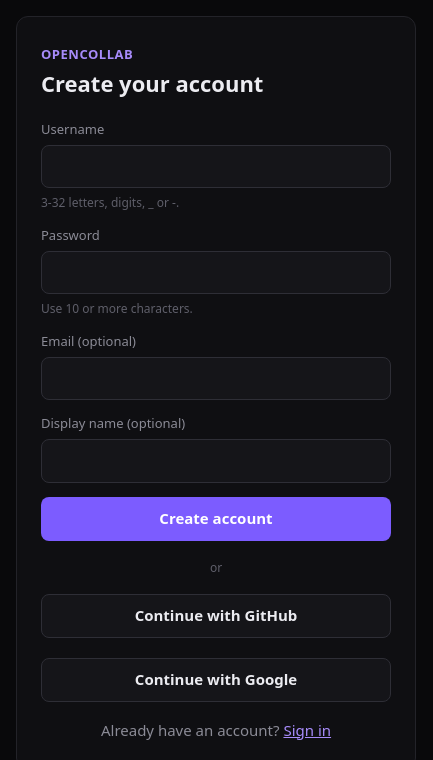
Test: register › registers and lands on the account page, omitting empty optional fields
Type "ada" into the field labelled "Username" at (216, 166), box [41,145,391,188]
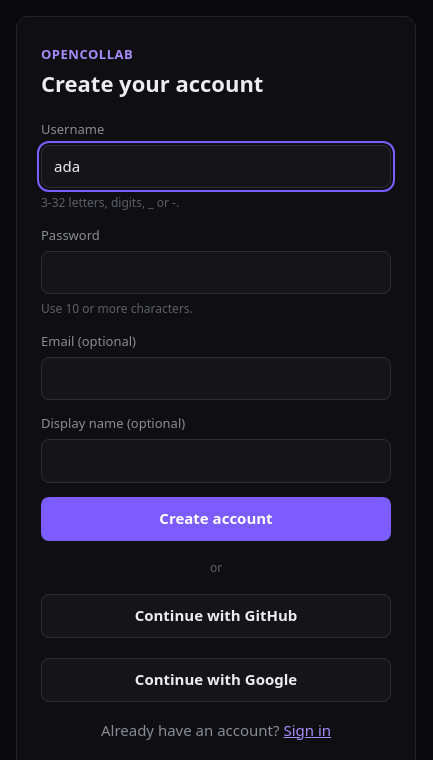
Type "0123456789" into the password field labelled "Password" at (216, 272), box [41,251,391,294]
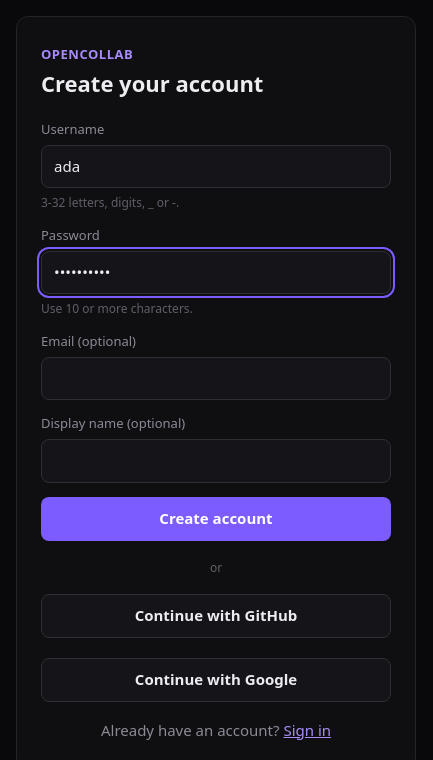
Click the button "Create account" at (216, 519), box [41,497,391,541]
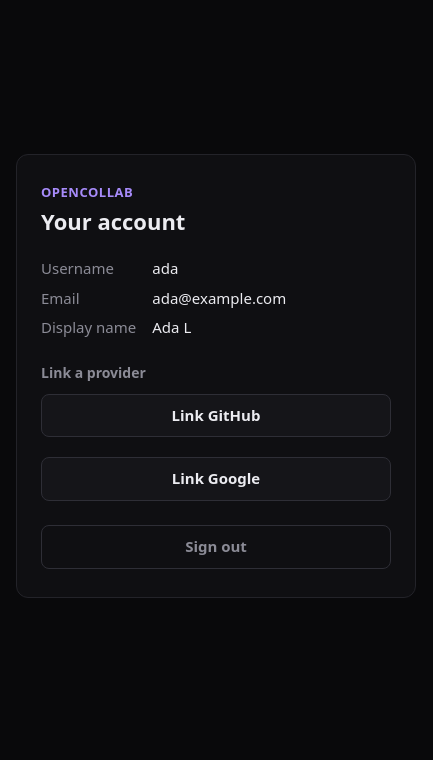
Result: the text "ada@example.com" is shown at [152,288,286,308]
